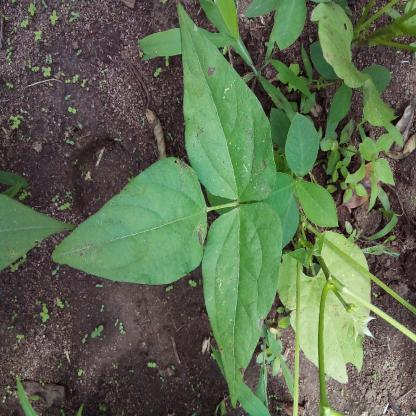Beans_Angular_LeafSpot: (172, 0, 276, 195), (48, 159, 210, 282), (198, 204, 287, 406)
